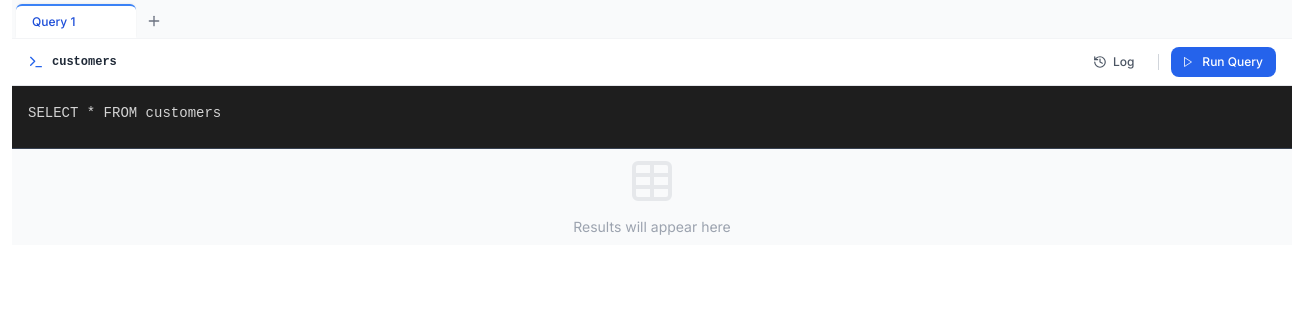
Test: SQL Studio results (UI) › renders results after a successful query
Click the button "Run Query": (1224, 62) [1171,47,1276,77]
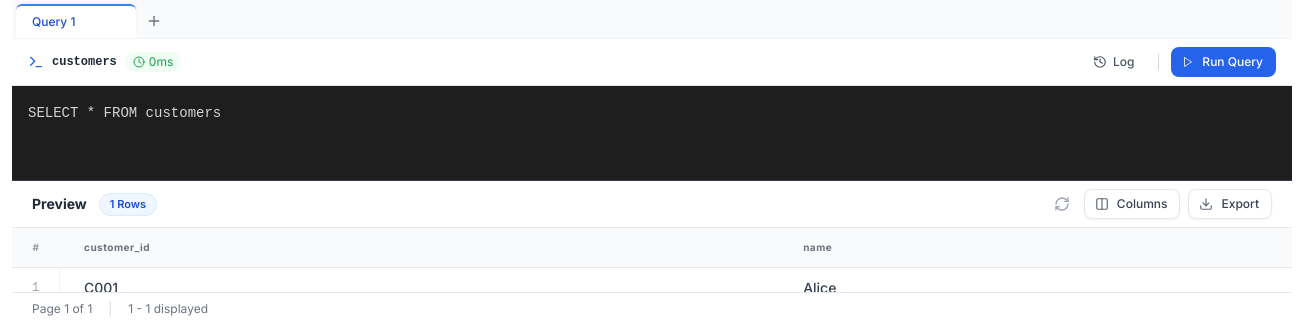
Expected: the text "C001" is shown, [84,279,118,292]
Expected: the text "customer_id" is shown, [60,228,779,268]
